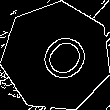O_SW: (23, 24, 89, 89)
